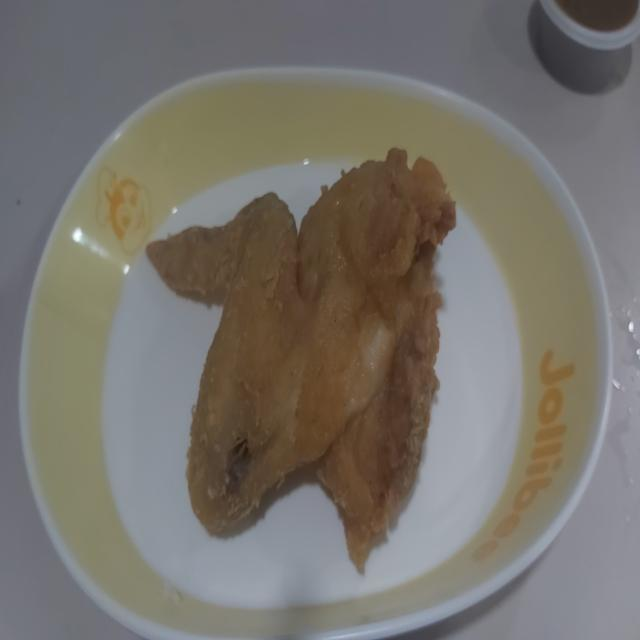Chicken -Fried Chicken-: (142, 142, 466, 579)
